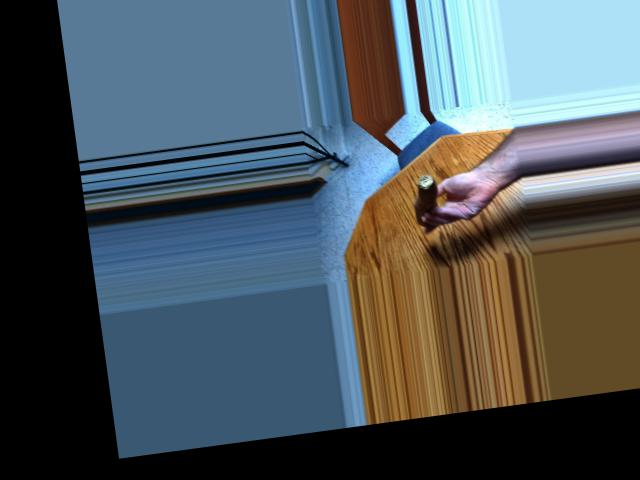sweet_potato: (406, 164, 455, 230)
